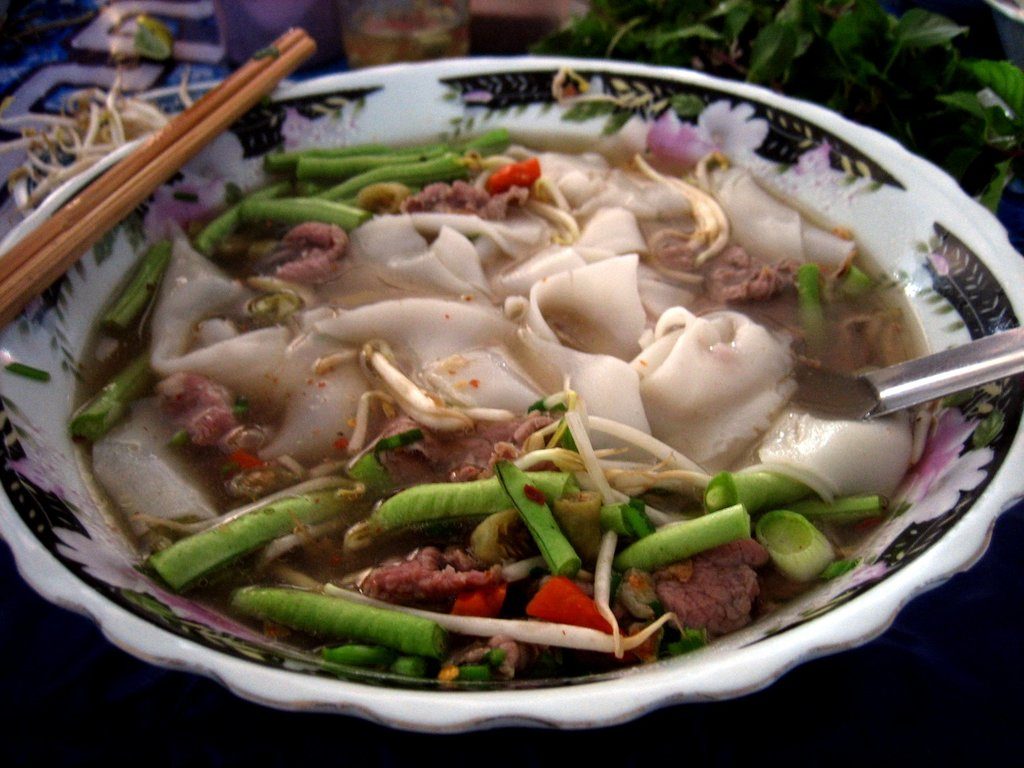person: (210, 0, 585, 151)
